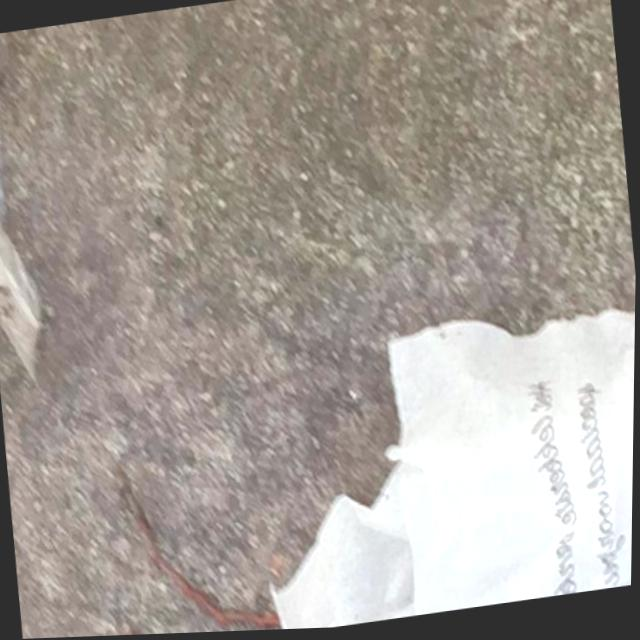Paper: (241, 289, 636, 633)
